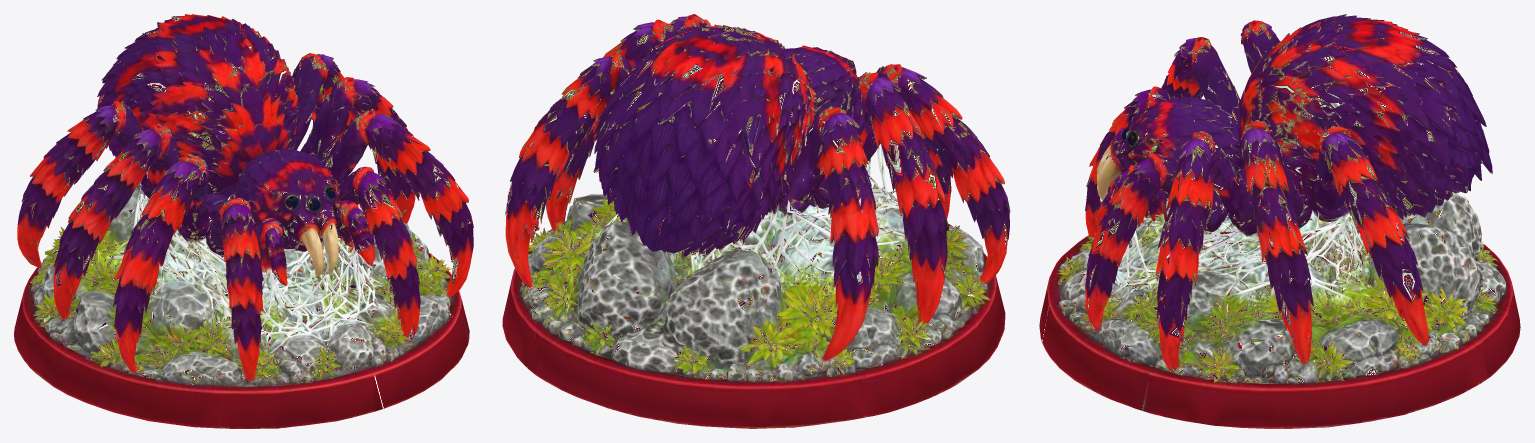
File: caveSpider.glb
3 views of the same model, side by side, from view 1: azimuth 30°, elevation 25°; view 2: azimuth 150°, elevation 25°; view 3: azimuth 270°, elevation 25° (orthographic). The views are drawn at different scales.
Size of the model in its own units: 1.9 by 1.31 by 1.9.
Materials: 1 (1 with a texture image).
